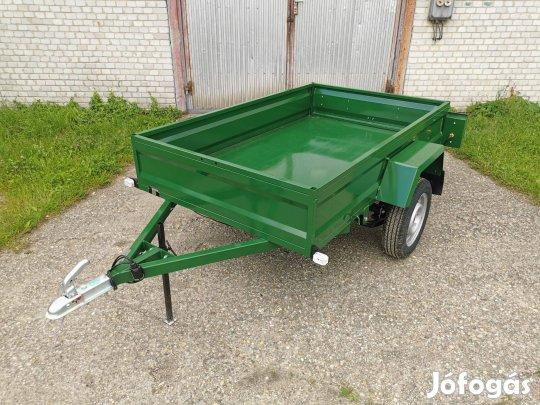trailer: (130, 82, 451, 259)
